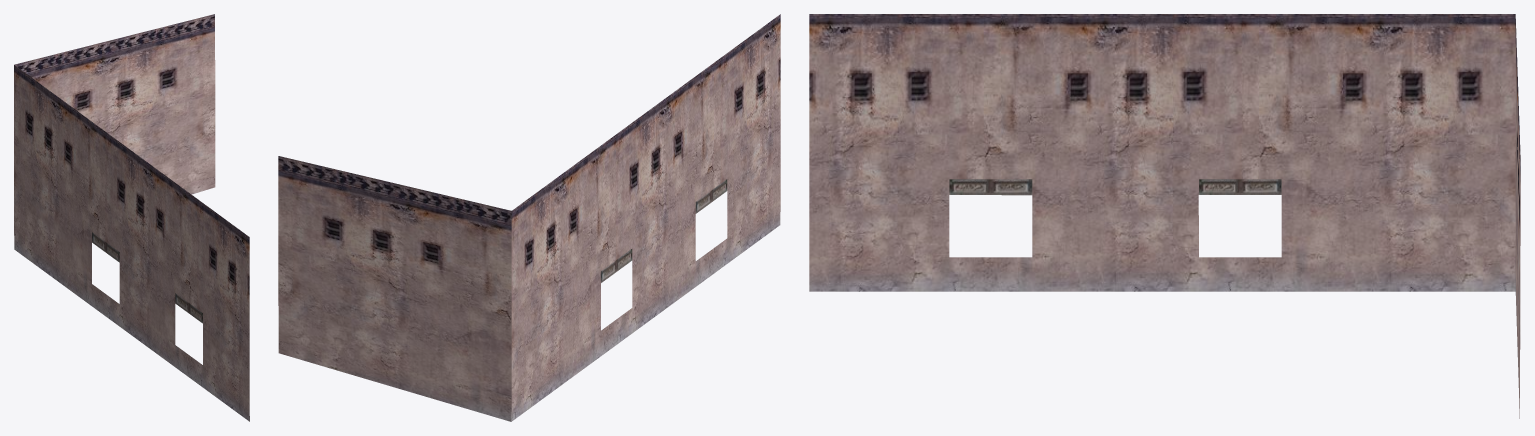
3 renders of one model, left to right at view 1: azimuth 30°, elevation 25°; view 2: azimuth 150°, elevation 25°; view 3: azimuth 270°, elevation 25°, orthographic. The views are drawn at different scales.
Visible parts, largest first — view 1: Object16; view 2: Object16; view 3: Object16.
Boxes of the visible parts, x1,y1,x2,y2 form: Object16: [14, 14, 249, 421]; Object16: [278, 14, 780, 421]; Object16: [809, 14, 1520, 418].
Size of the model in its own units: 255 by 222 by 517.
